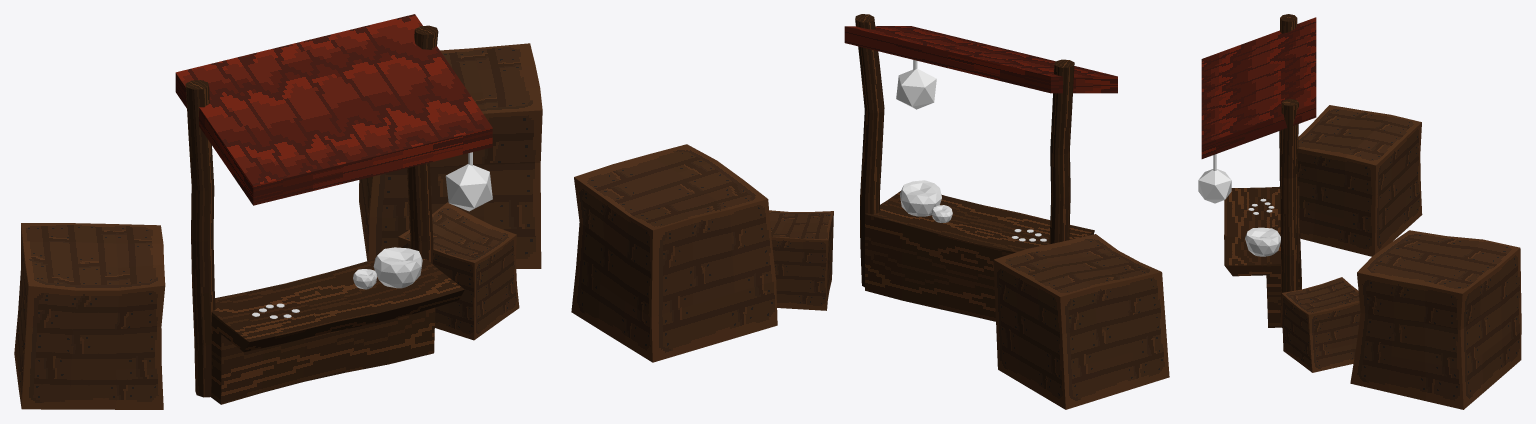
File: MarketStall.glb
3 renders of one model, left to right at view 1: azimuth 30°, elevation 25°; view 2: azimuth 150°, elevation 25°; view 3: azimuth 270°, elevation 25°, orthographic. The views are drawn at different scales.
Parts seen in each view (by area): view 1: Market; view 2: Market; view 3: Market.
Part boxes in pixels (left/top/right/bottom): Market: left=14, top=14, right=542, bottom=409; Market: left=571, top=14, right=1169, bottom=409; Market: left=1198, top=14, right=1521, bottom=409.
Size of the model in its own units: 4.11 by 2.09 by 2.6.
8 materials, 4 textured.
